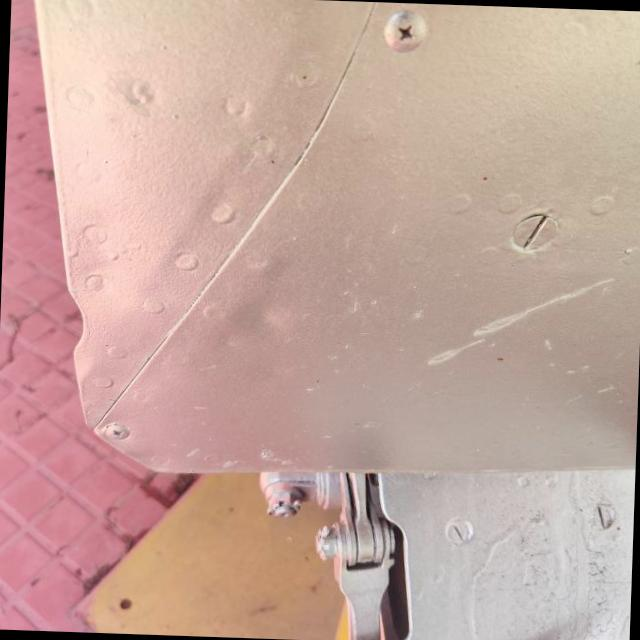dent: (203, 269, 304, 368)
